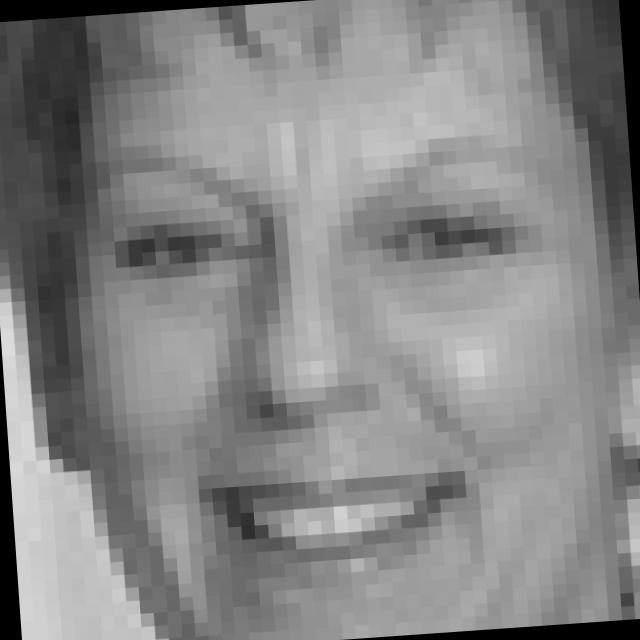happy: (105, 121, 576, 604)
